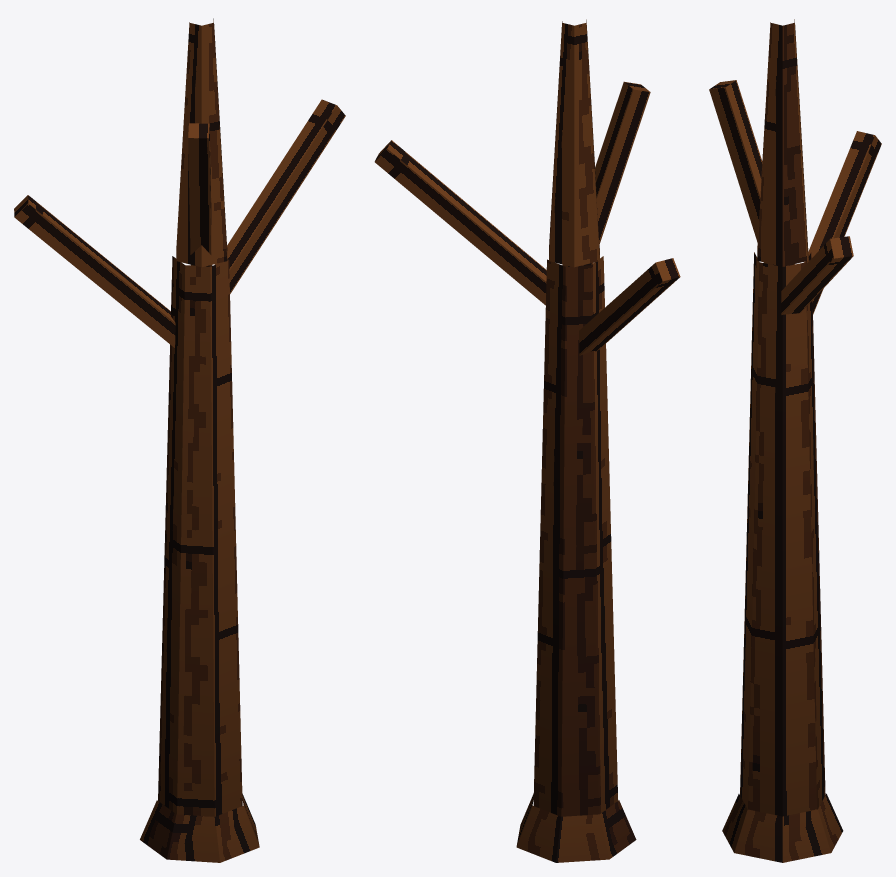
Rendered from oak_1_trunk.glb.
3 renders of one model, left to right at view 1: azimuth 30°, elevation 25°; view 2: azimuth 150°, elevation 25°; view 3: azimuth 270°, elevation 25°, orthographic.
Visible parts, largest first — view 1: oak_1_trunk; view 2: oak_1_trunk; view 3: oak_1_trunk.
Boxes of the visible parts, x1=… form: oak_1_trunk: x1=14, y1=18, x2=345, y2=862; oak_1_trunk: x1=374, y1=19, x2=680, y2=862; oak_1_trunk: x1=709, y1=19, x2=881, y2=862.
Size of the model in its own units: 2.11 by 5.22 by 1.
Materials: 1 (1 with a texture image).
